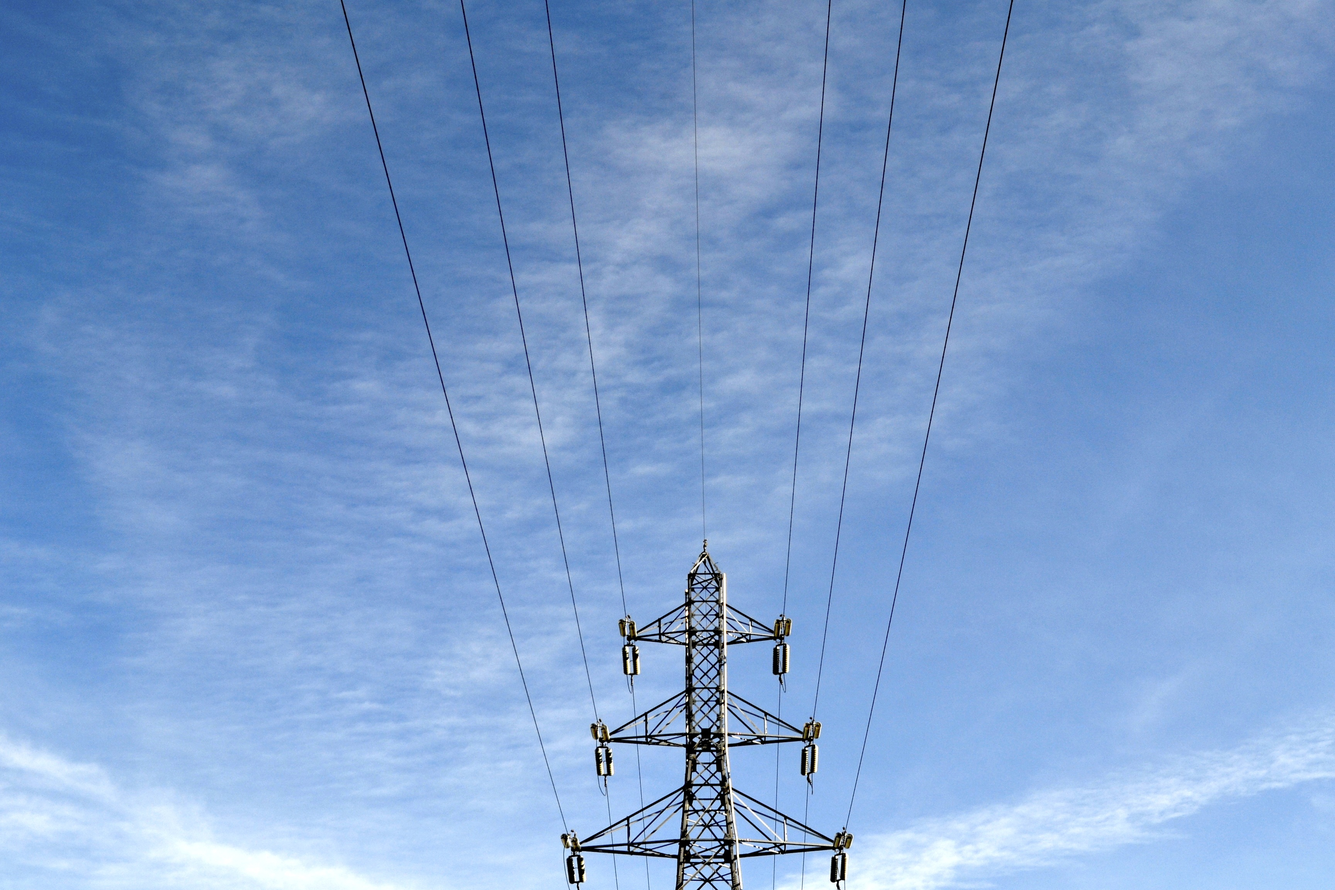insulator: (828, 844, 851, 889), (591, 741, 617, 778), (563, 851, 591, 885), (618, 639, 642, 676), (800, 734, 814, 779), (774, 637, 791, 673)
